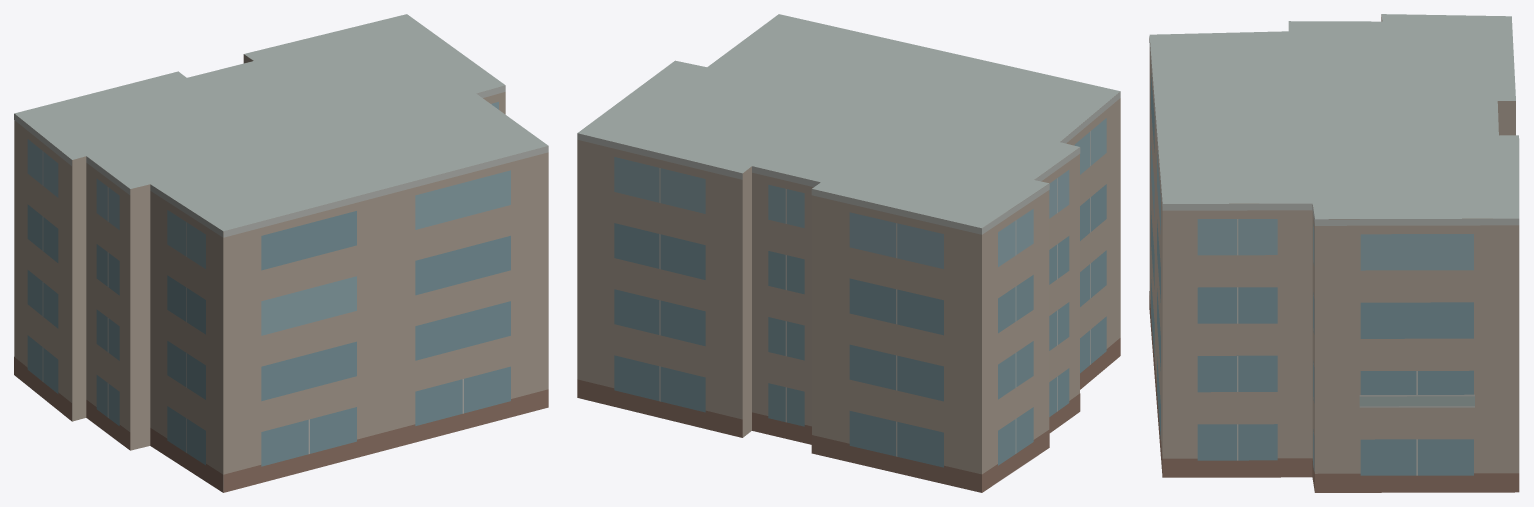
File: survey-upis-32604803.glb
3 renders of one model, left to right at view 1: azimuth 30°, elevation 25°; view 2: azimuth 150°, elevation 25°; view 3: azimuth 270°, elevation 25°, orthographic. The views are drawn at different scales.
Visible parts, largest first — view 1: survey-upis-32604803.tmp; view 2: survey-upis-32604803.tmp; view 3: survey-upis-32604803.tmp.
Boxes of the visible parts, bbox=[...] form: survey-upis-32604803.tmp: bbox=[14, 14, 548, 492]; survey-upis-32604803.tmp: bbox=[577, 14, 1120, 492]; survey-upis-32604803.tmp: bbox=[1149, 14, 1519, 492].
Size of the model in its own units: 15.95 by 9.9 by 12.14.
